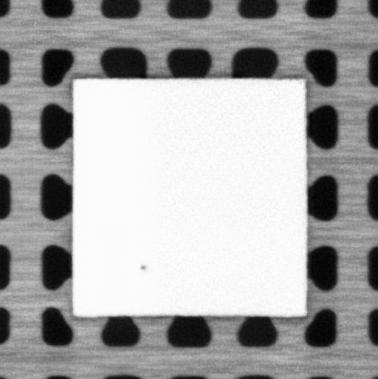DIE_INK: (137, 262, 150, 274)
